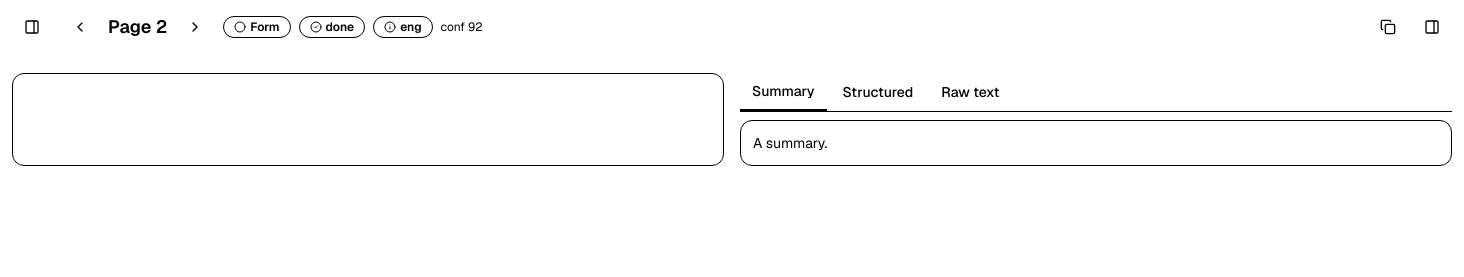
Test: PageDetail viewer › renders tabs and switches between summary/structured/raw
Expected: the text "A summary." is shown, [753,134,827,152]
Step 1. Click the tab "Structured" → (878, 92), box [830,73,925,111]
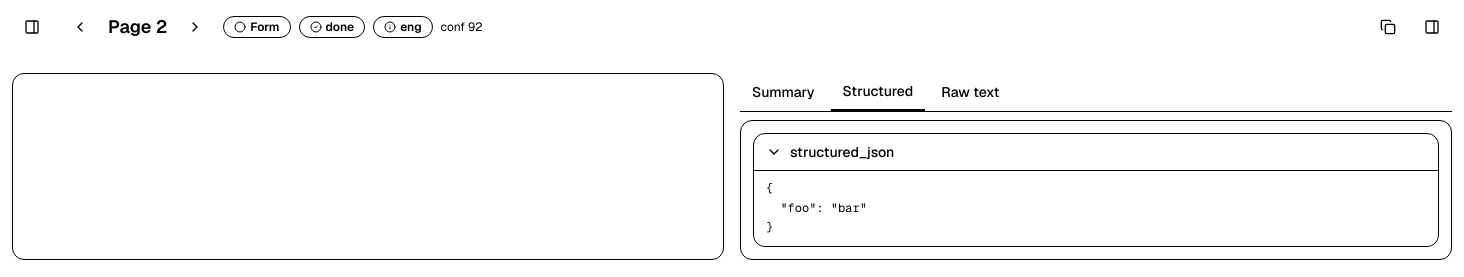
Result: the text "\"foo\"" is shown at [780,200,816,216]
Step 2. Click the tab "Raw text" → (970, 92), box [929,73,1012,111]
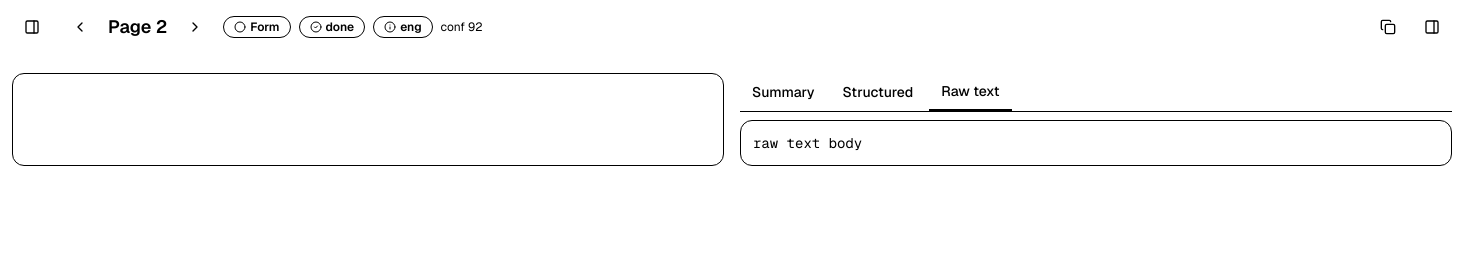
Result: the text "raw text body" is shown at [753,134,862,152]
